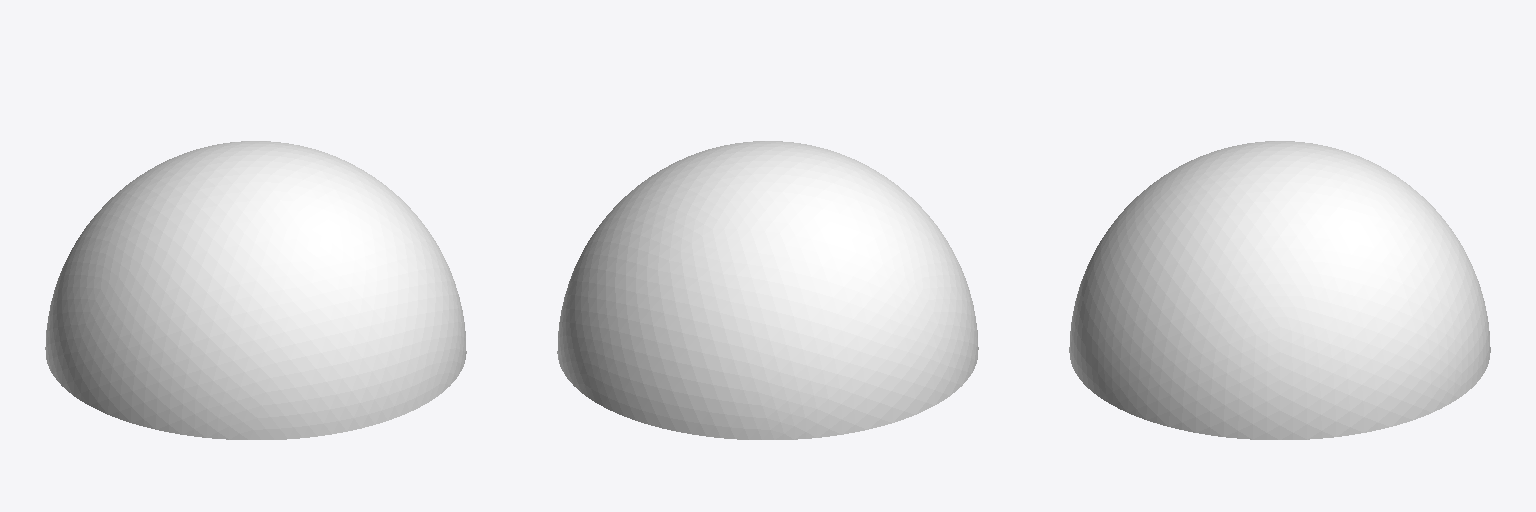
Rendered from geodesic_dome.obj.
The picture shows the model from 3 angles: view 1: azimuth 30°, elevation 25°; view 2: azimuth 150°, elevation 25°; view 3: azimuth 270°, elevation 25°; orthographic projection.
Visible parts, largest first — view 1: icosahedron3; view 2: icosahedron3; view 3: icosahedron3.
Boxes of the visible parts, box(x1,y1,x2,y2) form: icosahedron3: box(45, 141, 466, 439); icosahedron3: box(557, 141, 978, 439); icosahedron3: box(1069, 141, 1490, 439).
Size of the model in its own units: 2 by 1 by 2.